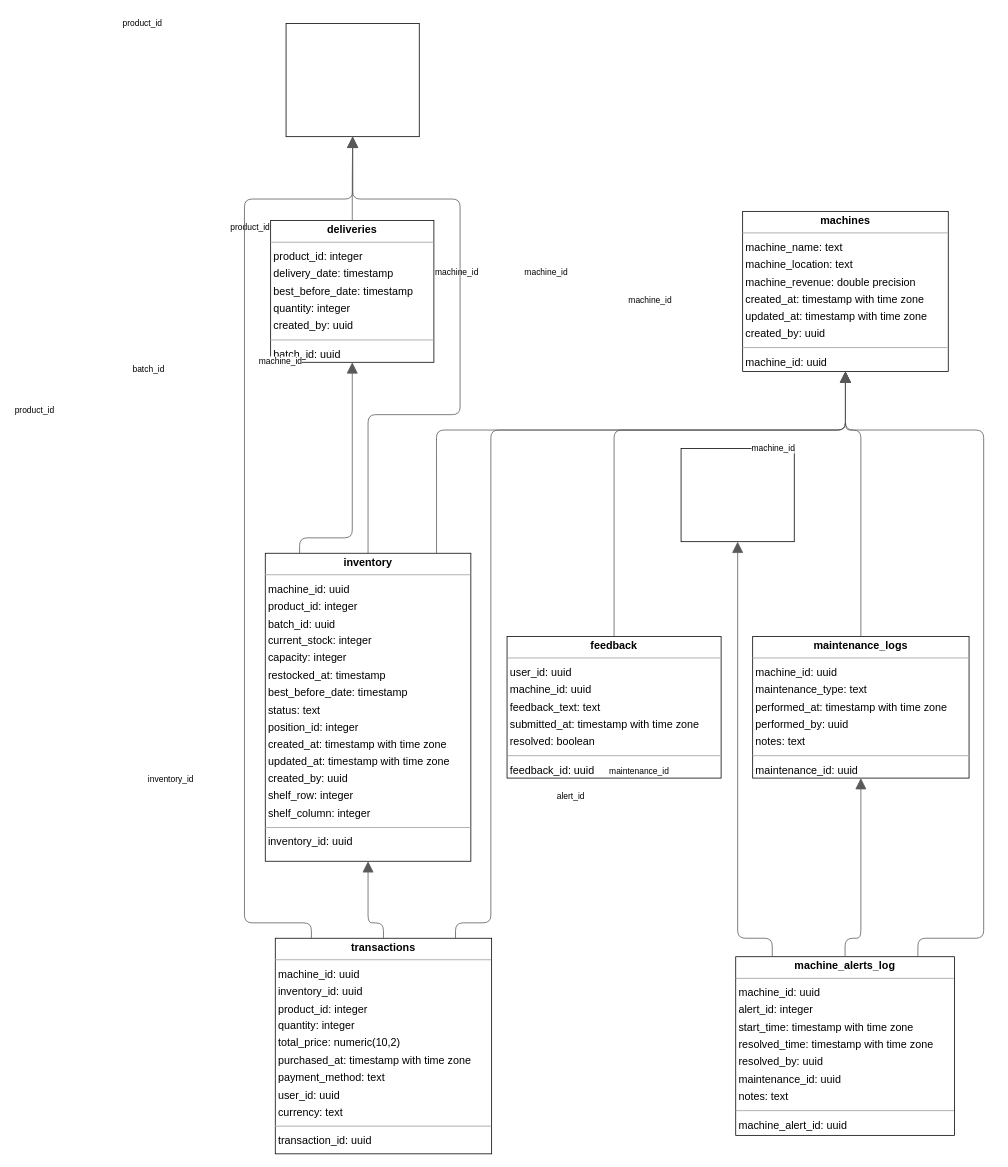
Some shapes in this 1008 by 1167 pixel diagram are drawn without their labels. Each missing label, with the centre of its shape:
alerts alert_name: text alert_severity: text alert_id: integer: pixel 737 495
products name: text price: numeric shelf_life_days: integer product_id: integer: pixel 352 80
